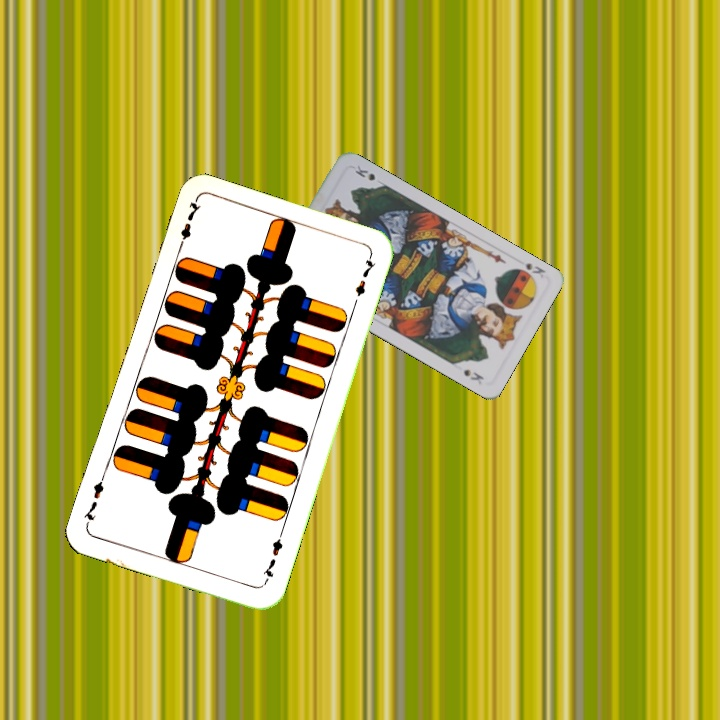E7: (173, 196, 203, 254), (258, 529, 286, 586)
SK: (522, 259, 548, 280)
